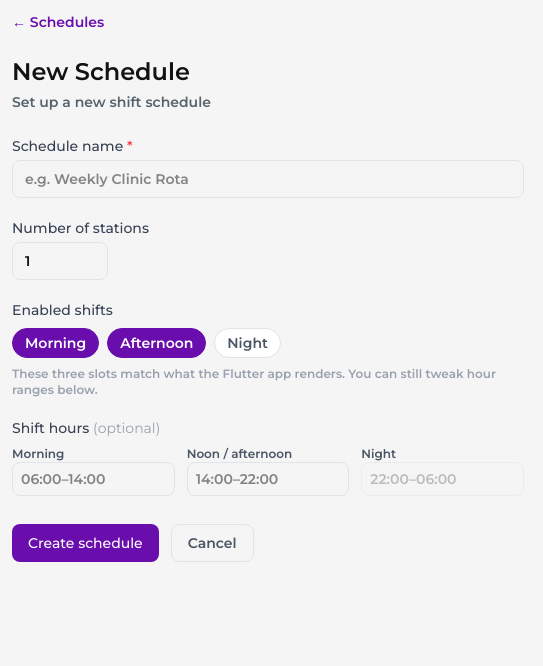
Scenario: NewSchedulePage › shows the duplicate-name message when createSchedule throws ScheduleNameTakenError (race lost)
The width and height of the screenshot is (543, 666).
Type "Roster" into the field with placeholder "e.g. Weekly Clinic Rota". click: (268, 179)
box: [12,160,524,198]
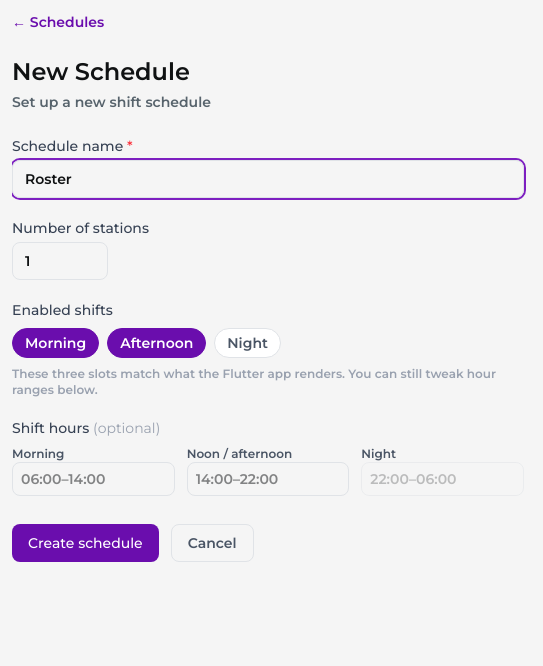
Click the button "Create schedule". click: (85, 543)
box: [12,524,159,562]
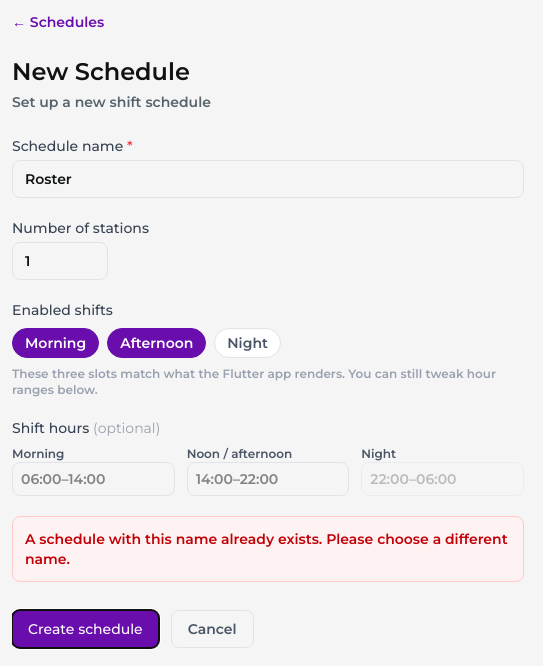
Now the text "A schedule with this name already exists" is shown, box [25,530,508,568]
